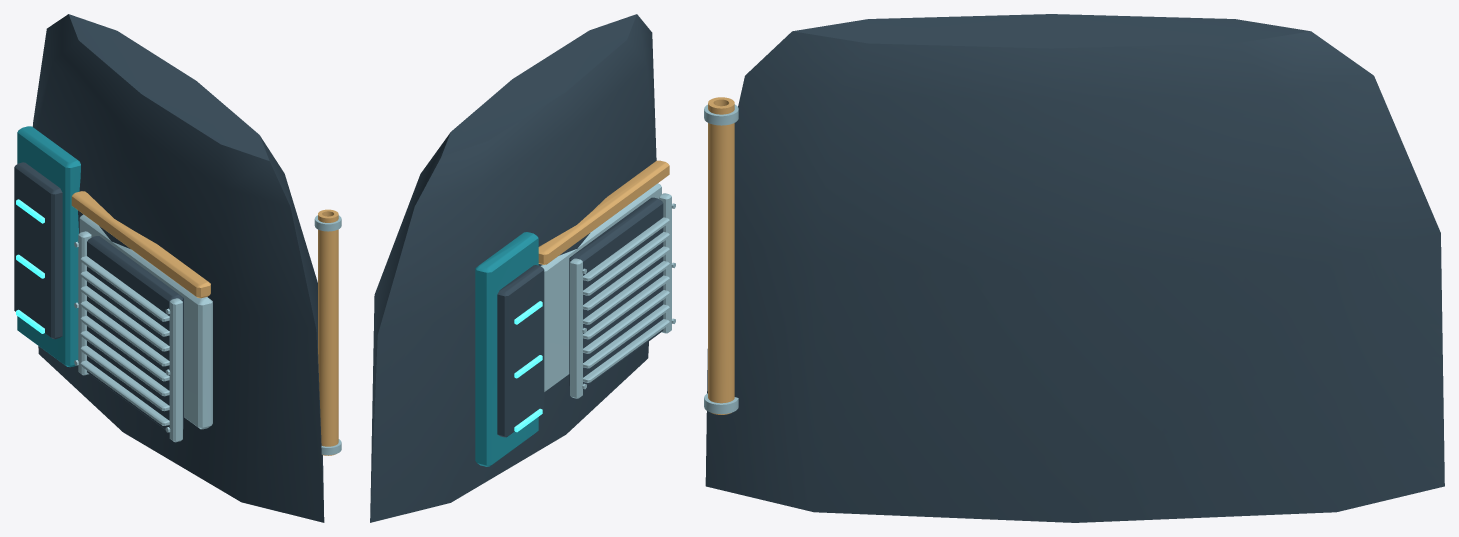
Rendered from ReactorBank.glb.
3 renders of one model, left to right at view 1: azimuth 30°, elevation 25°; view 2: azimuth 150°, elevation 25°; view 3: azimuth 270°, elevation 25°, orthographic. The views are drawn at different scales.
Visible parts, largest first — view 1: bank; view 2: bank; view 3: bank.
Part boxes in pixels (x1,y1,x2,y2): bank: (14,14,341,522); bank: (370,14,675,522); bank: (704,14,1444,522).
Bounding box in the file's own units: 2.84 × 6.2 × 9.42.
